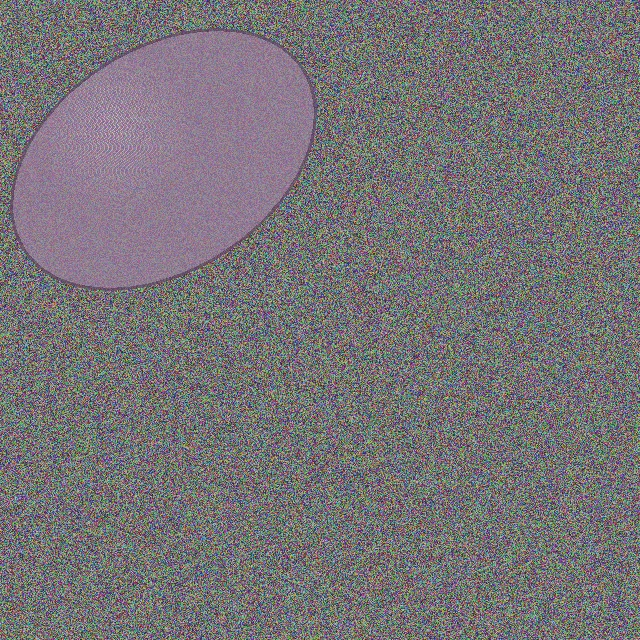lens: (12, 29, 314, 289)
